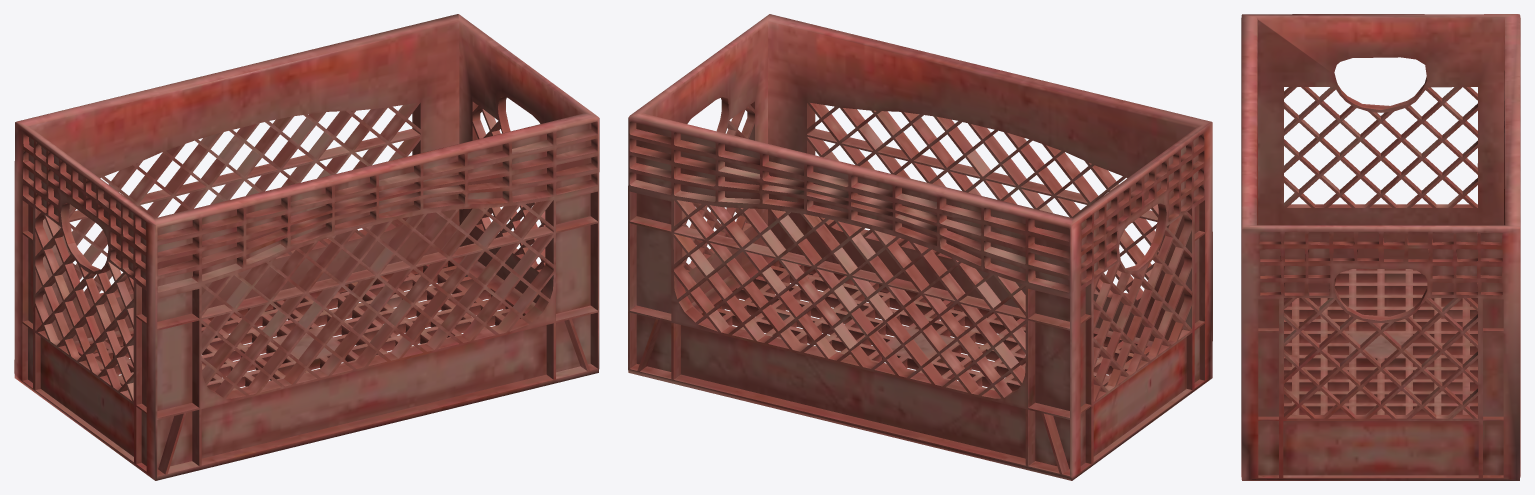
File: plastic_crate_03_512.glb
3 renders of one model, left to right at view 1: azimuth 30°, elevation 25°; view 2: azimuth 150°, elevation 25°; view 3: azimuth 270°, elevation 25°, orthographic.
Visible parts, largest first — view 1: plastic_crate_03; view 2: plastic_crate_03; view 3: plastic_crate_03.
Boxes of the visible parts, bbox=[...] form: plastic_crate_03: bbox=[14, 14, 599, 480]; plastic_crate_03: bbox=[628, 14, 1212, 480]; plastic_crate_03: bbox=[1241, 14, 1520, 480].
Size of the model in its own units: 0.4811 by 0.2652 by 0.265.
1 material, 1 textured.
